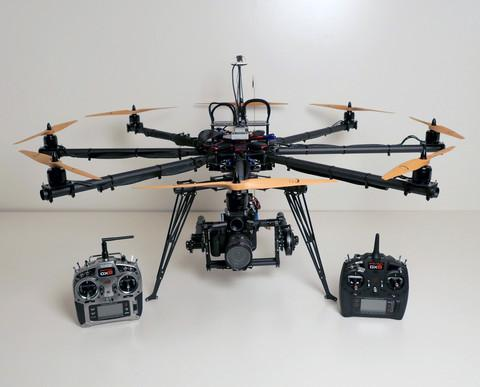drone: (21, 89, 468, 255)
